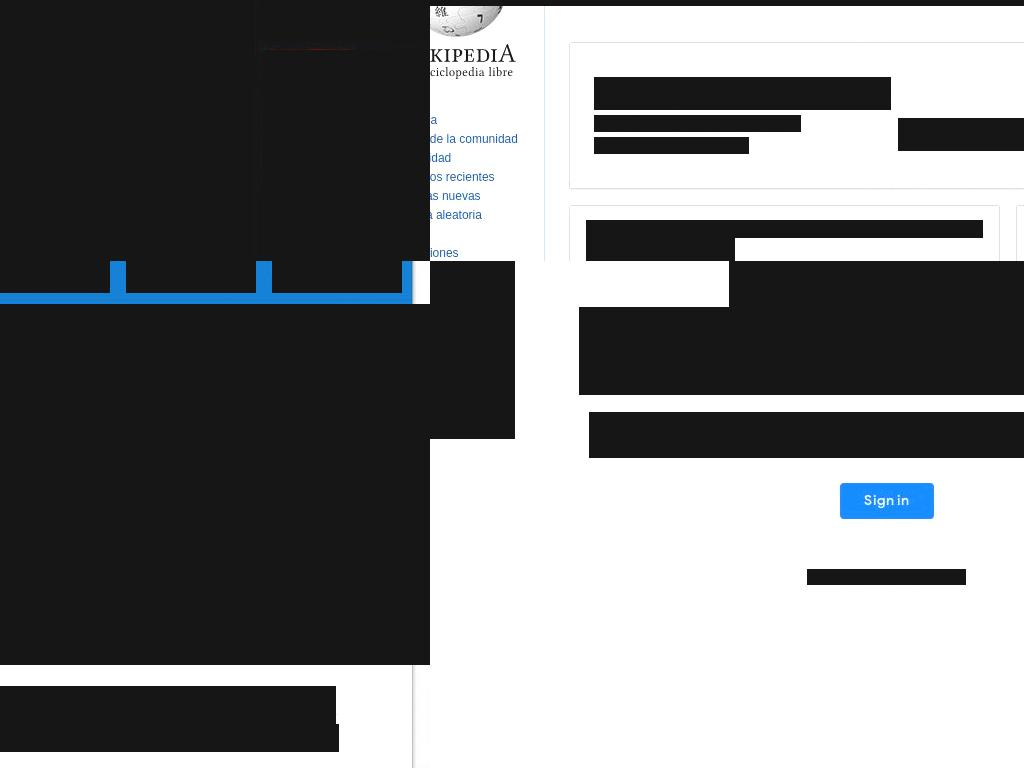button: (0, 0, 254, 261), (262, 50, 430, 261), (0, 559, 312, 645), (430, 263, 515, 307), (430, 307, 515, 351), (430, 351, 515, 395), (430, 395, 515, 439), (898, 125, 973, 142), (973, 125, 1024, 142)
heading: (430, 0, 591, 261), (0, 107, 244, 143), (737, 77, 891, 110), (594, 77, 738, 110), (586, 238, 735, 261), (272, 199, 430, 220)
image: (0, 304, 412, 665), (262, 50, 430, 204), (729, 261, 1024, 307), (430, 0, 536, 86), (412, 304, 430, 665), (126, 261, 256, 293), (272, 261, 402, 293), (0, 261, 110, 293), (361, 461, 381, 508)
link: (0, 148, 244, 214), (272, 224, 430, 261), (807, 569, 966, 585), (621, 137, 745, 154), (430, 131, 519, 146), (430, 169, 496, 184), (430, 207, 483, 222), (430, 188, 482, 203), (430, 245, 460, 260), (430, 150, 452, 165)
text: (579, 307, 1024, 395), (589, 412, 1024, 458), (0, 686, 336, 725), (0, 724, 339, 752), (3, 602, 261, 631), (586, 220, 983, 238), (29, 574, 235, 603), (594, 115, 801, 132), (898, 118, 974, 151), (973, 118, 1024, 151), (430, 275, 499, 295), (430, 319, 499, 339), (430, 363, 499, 383), (430, 407, 499, 427), (272, 11, 306, 30), (594, 137, 621, 154), (744, 137, 749, 154)
